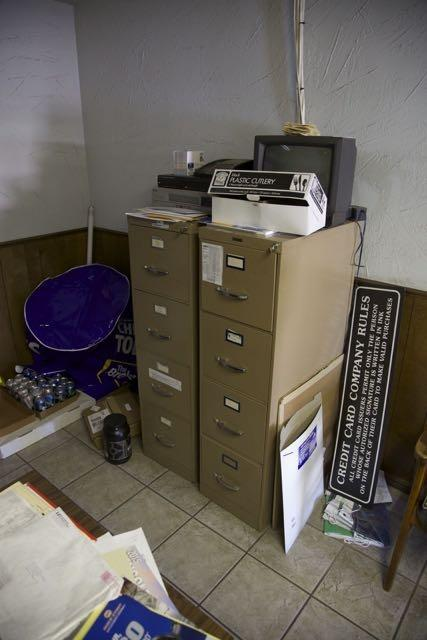Filing Cabinet: (196, 221, 360, 532), (126, 208, 199, 485)
